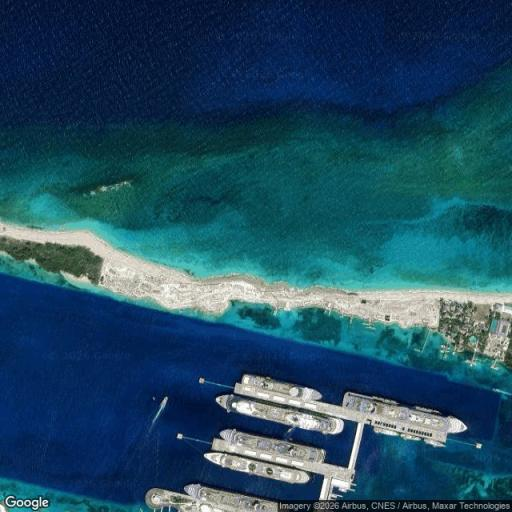ship: (343, 392, 466, 446), (216, 395, 343, 434), (220, 429, 325, 462), (205, 452, 309, 483), (185, 484, 277, 511), (242, 374, 321, 400), (152, 396, 167, 423)
